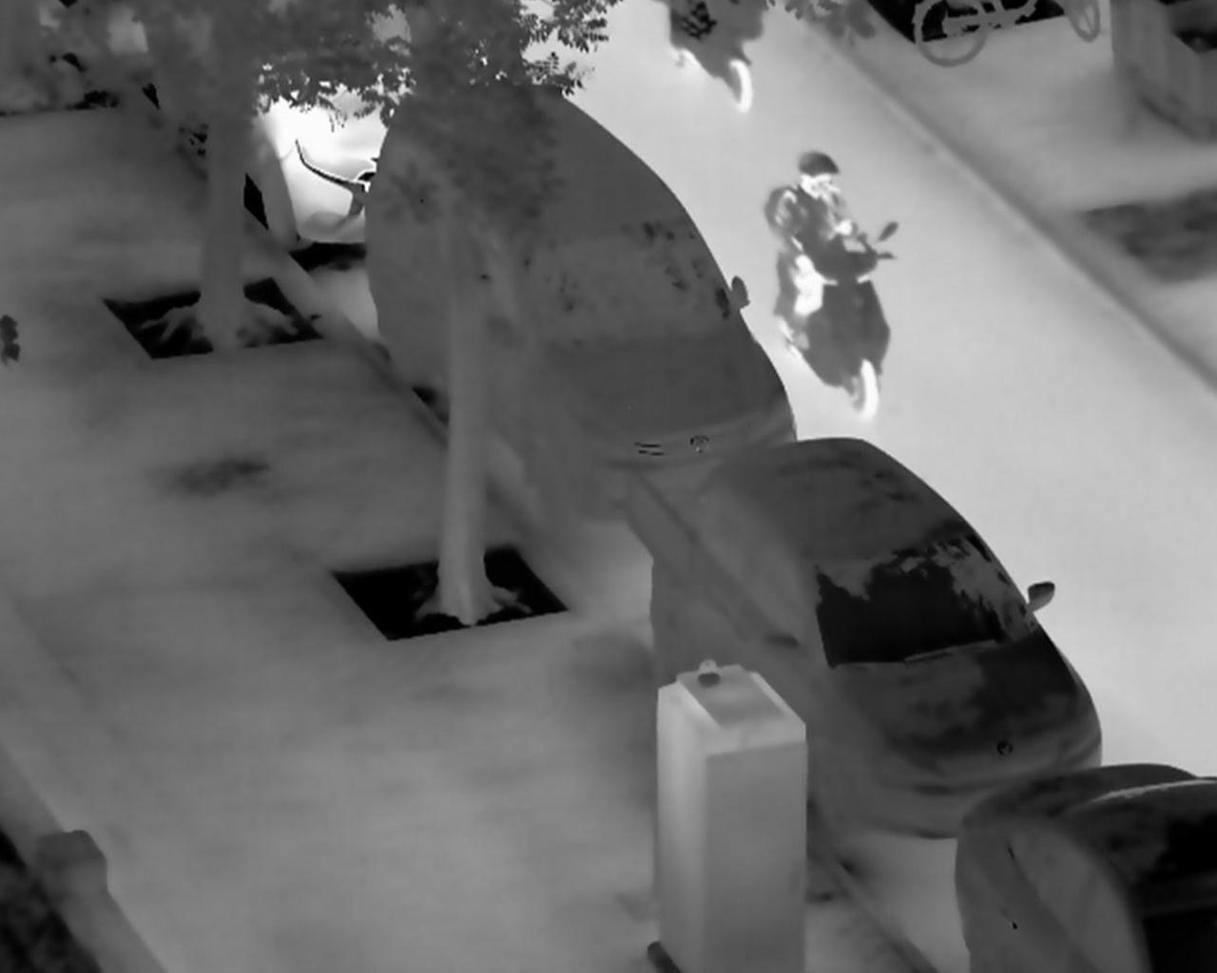person: (774, 144, 862, 353)
